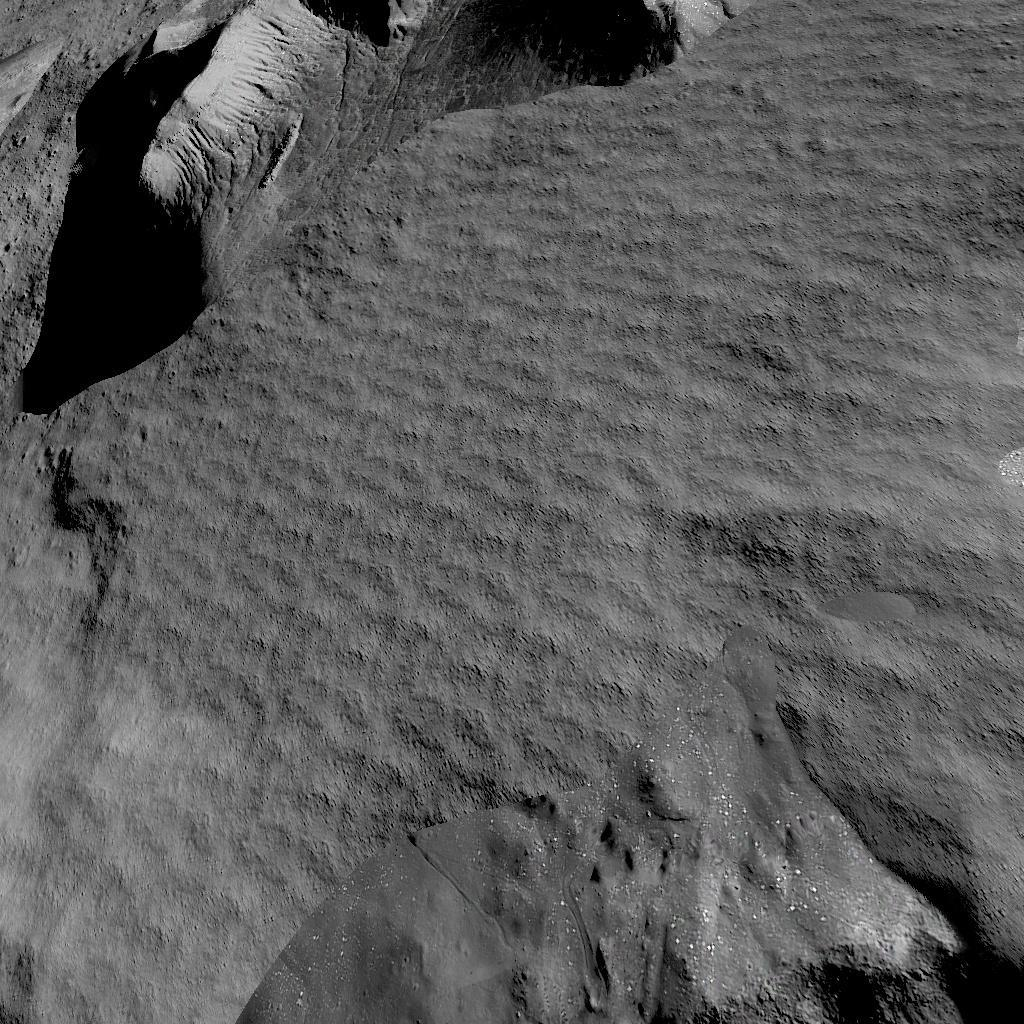Boulders: (0, 0, 727, 418)
Crater: (248, 808, 1024, 1024)
Plan surface: (0, 430, 1024, 795), (741, 0, 1024, 418), (0, 808, 238, 1024)
